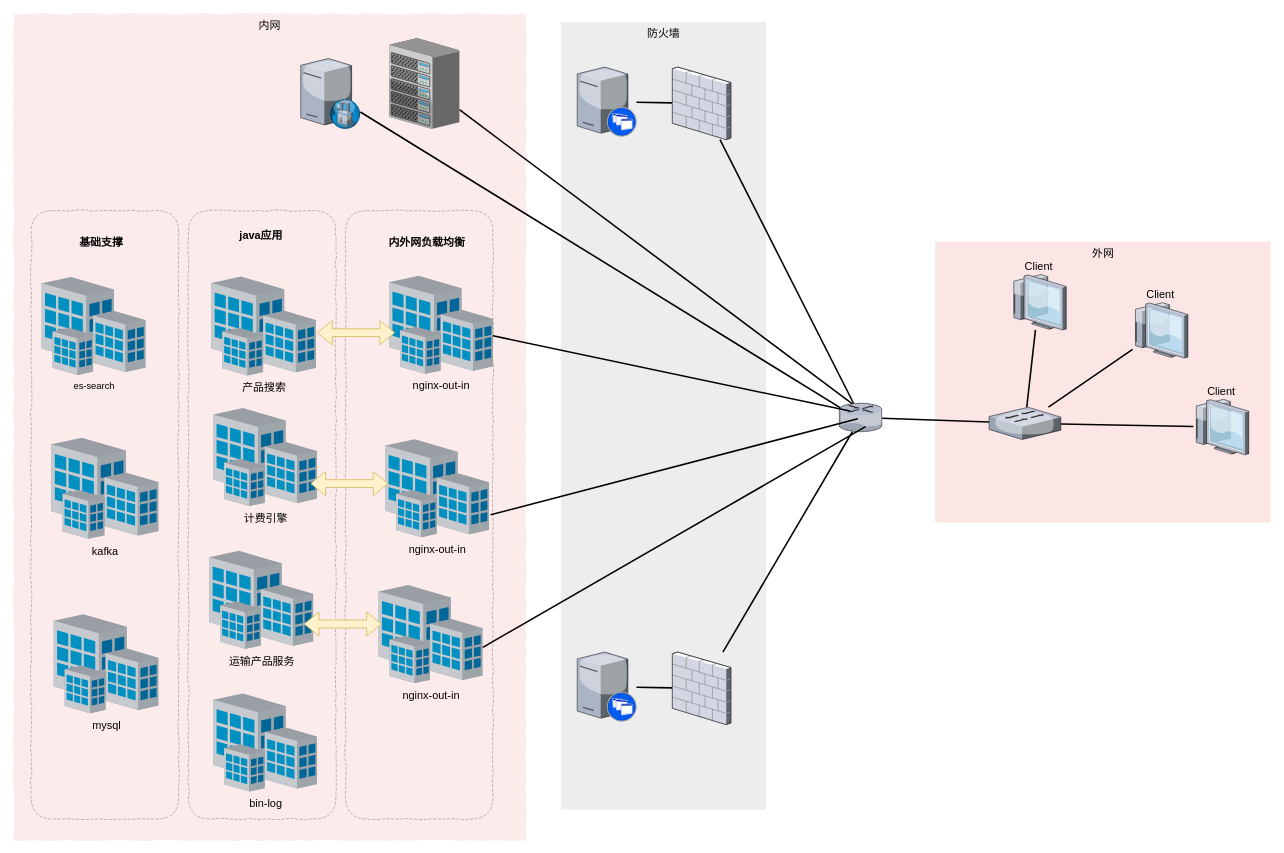
Some shapes in this 1284 by 853 pixel diagram are drawn without their labels. Here are the shapes that lost their labels. From the top down, the centre of each, then its label:
point (330, 93): Secure Server
point (424, 83): DNS
